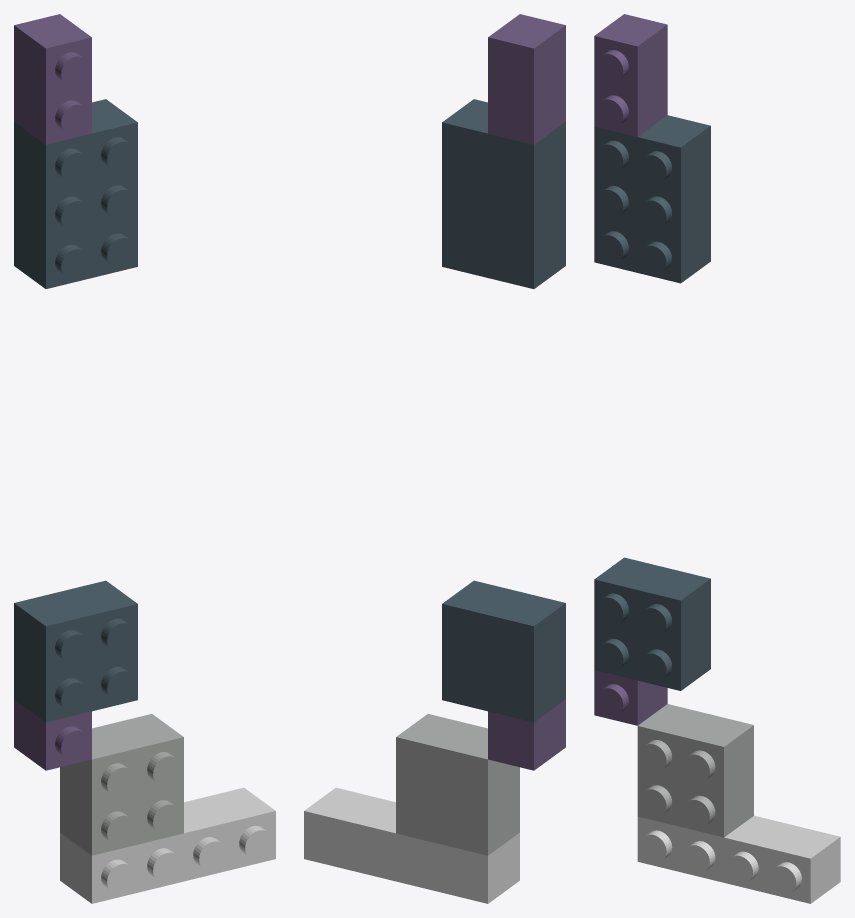
Rendered from current.glb.
3 views of the same model, side by side, from view 1: azimuth 30°, elevation 25°; view 2: azimuth 150°, elevation 25°; view 3: azimuth 330°, elevation 25° (orthographic). The views are drawn at different scales.
Visible parts, largest first — view 1: world; view 2: world; view 3: world.
Boxes of the visible parts, x1,y1,x2,y2 form: world: (14,14,275,903); world: (304,14,565,903); world: (594,14,840,903).
Bounding box in the file's own units: 40 × 144 × 11.4.
